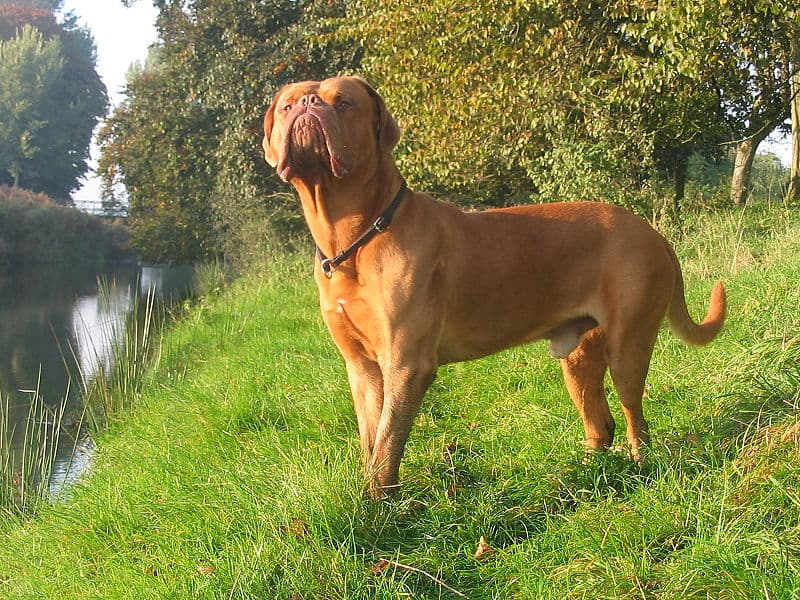dogue_de_bordeaux: (260, 74, 727, 501)
